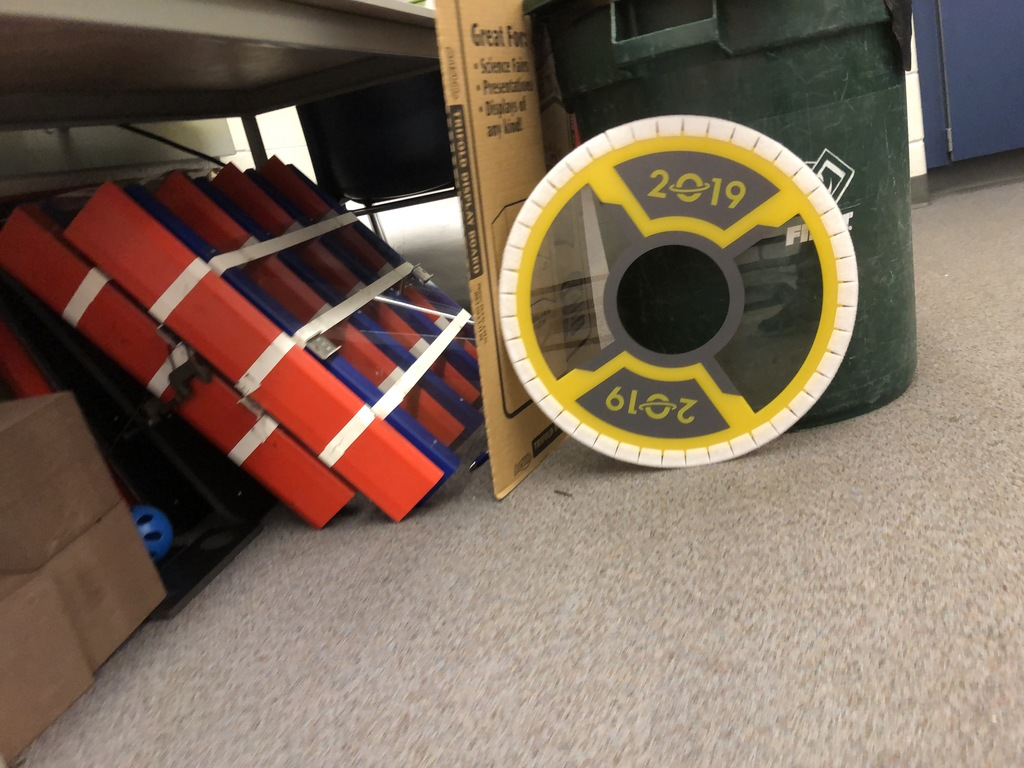hatch_panel: (487, 109, 885, 481)
